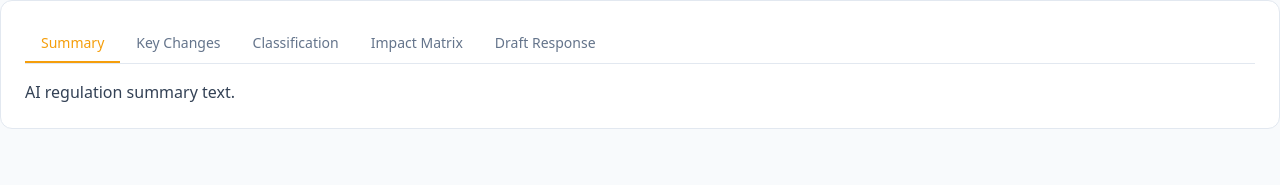
Test case: EnrichmentPanel › switches to impact tab
Click the tab "Impact Matrix": (417, 44) x1=355 y1=25 x2=479 y2=63
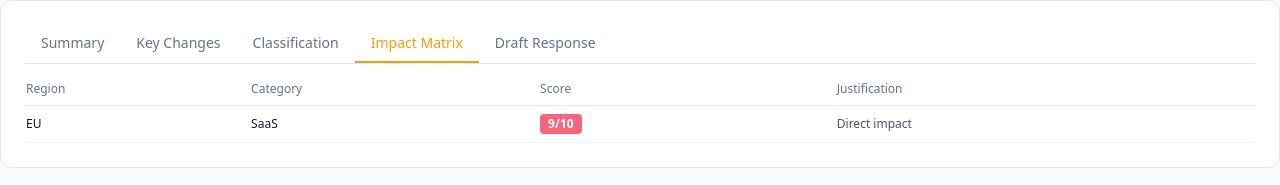
expect the text "9/10" is shown: met, box x1=540 y1=114 x2=582 y2=134
